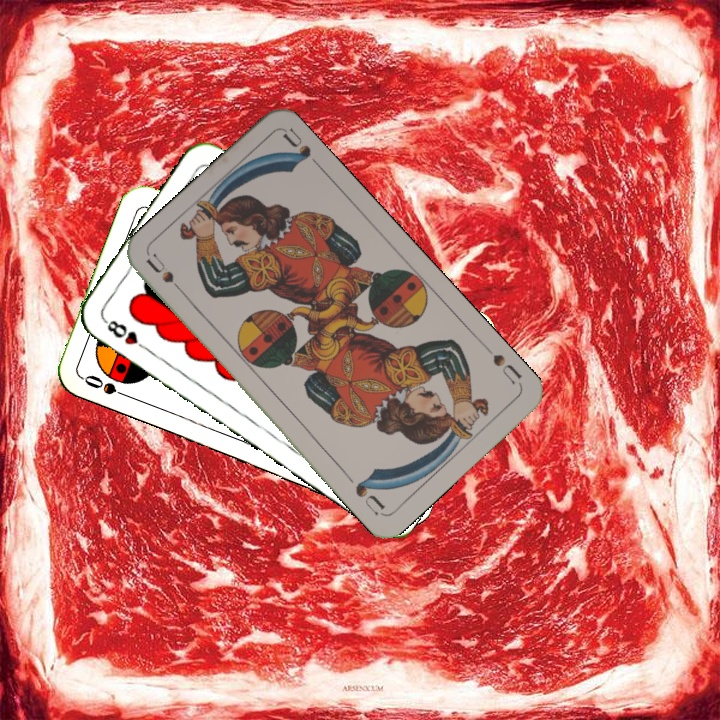H8: (100, 315, 152, 354)
SO: (79, 371, 136, 402)
SU: (142, 249, 190, 301), (479, 341, 525, 388)
